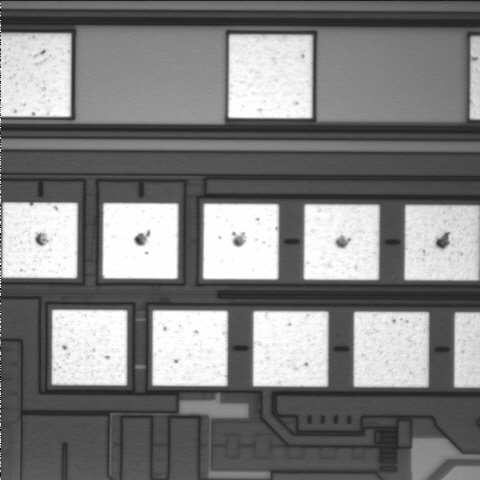pad: (228, 35, 312, 118), (2, 202, 78, 278), (102, 203, 178, 279), (203, 204, 279, 280), (152, 310, 228, 386), (304, 204, 379, 280), (253, 311, 328, 387), (52, 310, 127, 385), (354, 312, 429, 387)
